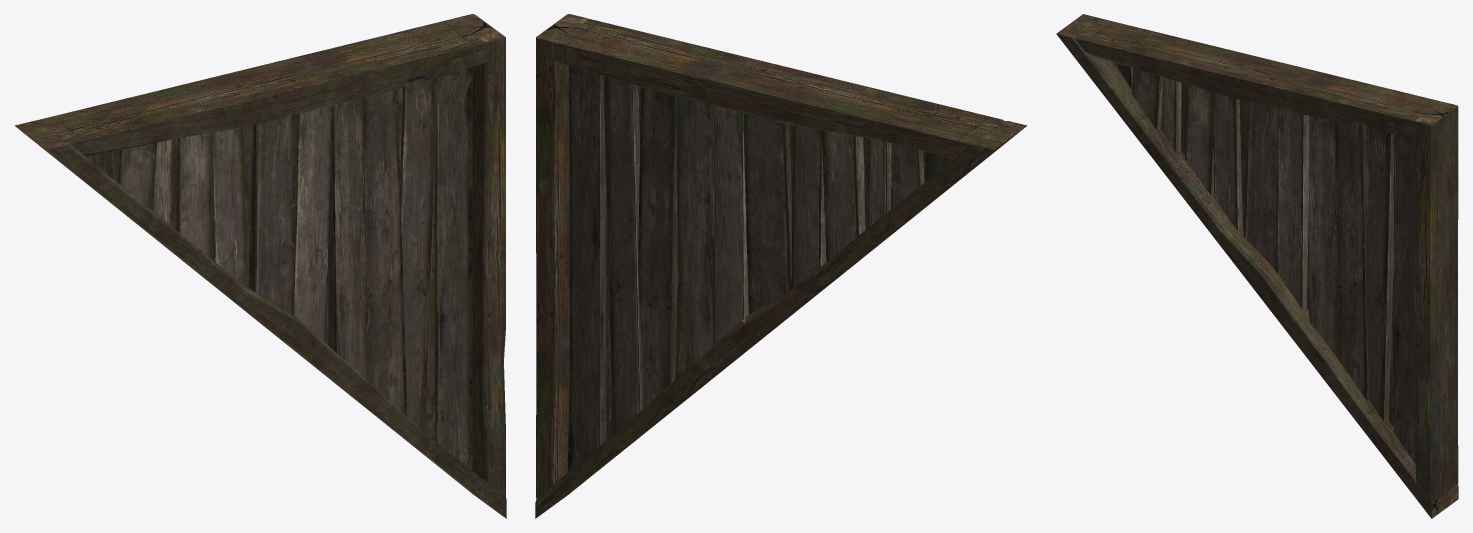
3 renders of one model, left to right at view 1: azimuth 30°, elevation 25°; view 2: azimuth 150°, elevation 25°; view 3: azimuth 330°, elevation 25°, orthographic. The views are drawn at different scales.
Parts seen in each view (by area): view 1: SM_BB_T1_Wall_Slanted_Large_Inverted_LOD0; view 2: SM_BB_T1_Wall_Slanted_Large_Inverted_LOD0; view 3: SM_BB_T1_Wall_Slanted_Large_Inverted_LOD0.
Boxes of the visible parts, left/top/right/bottom form: SM_BB_T1_Wall_Slanted_Large_Inverted_LOD0: left=14, top=14, right=506, bottom=518; SM_BB_T1_Wall_Slanted_Large_Inverted_LOD0: left=535, top=14, right=1027, bottom=518; SM_BB_T1_Wall_Slanted_Large_Inverted_LOD0: left=1056, top=14, right=1458, bottom=518.
Bounding box in the file's own units: 3 × 3 × 0.3774.
Materials: 2 (2 with a texture image).
